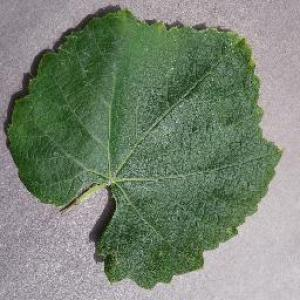Folha: (3, 3, 282, 290)
